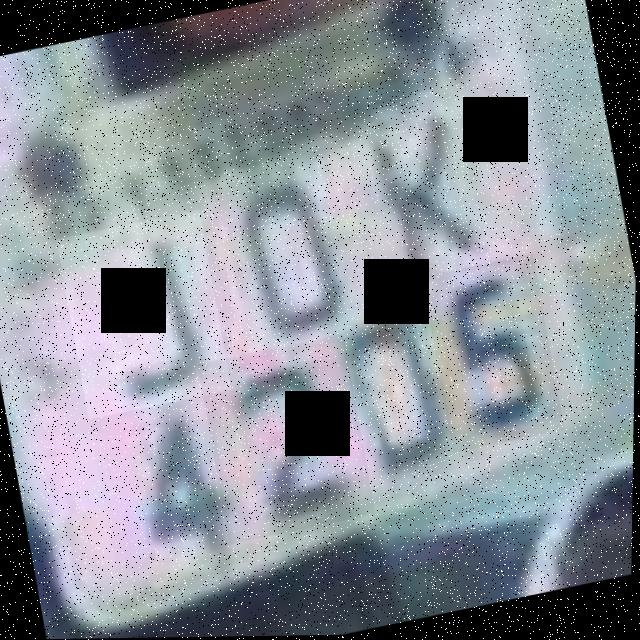0: (304, 278, 478, 502), (202, 147, 382, 361)
2: (197, 335, 379, 546)
4: (85, 371, 261, 589)
5: (421, 255, 568, 455)
J: (55, 210, 235, 420)
O: (201, 138, 387, 361)
